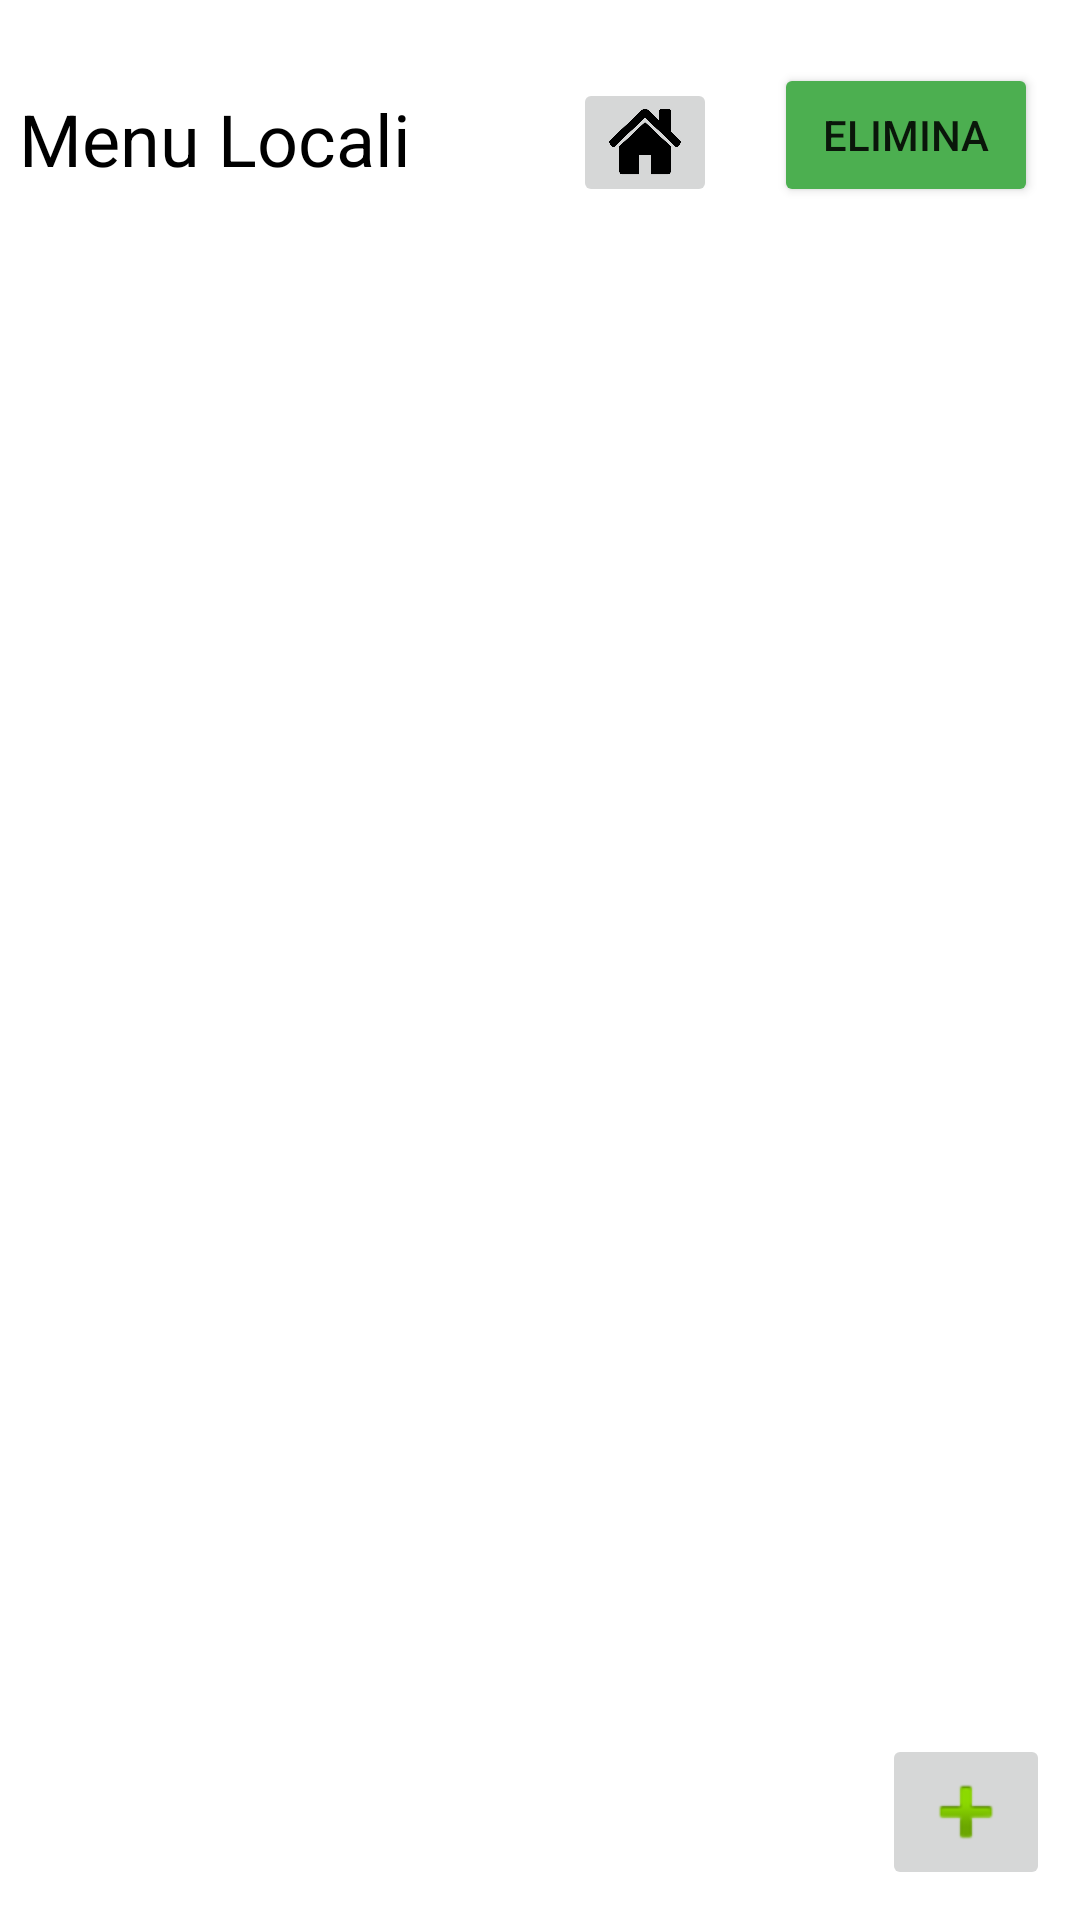

Icons on this 1080px x 1920px Android screen, each with its box as (x1, y1, x2, y2):
add: (894, 1752, 1038, 1872)
home: (585, 96, 705, 189)
